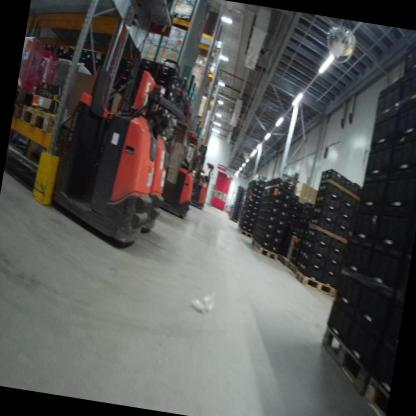pallet: (312, 316, 376, 399), (16, 104, 75, 142), (291, 268, 338, 300), (360, 369, 391, 416), (248, 237, 278, 260), (234, 223, 255, 242), (15, 86, 33, 105), (276, 250, 292, 271), (285, 260, 298, 276), (14, 102, 24, 118)
pallet_truck: (47, 0, 181, 250), (104, 33, 194, 240), (141, 131, 202, 228), (185, 143, 221, 213)
